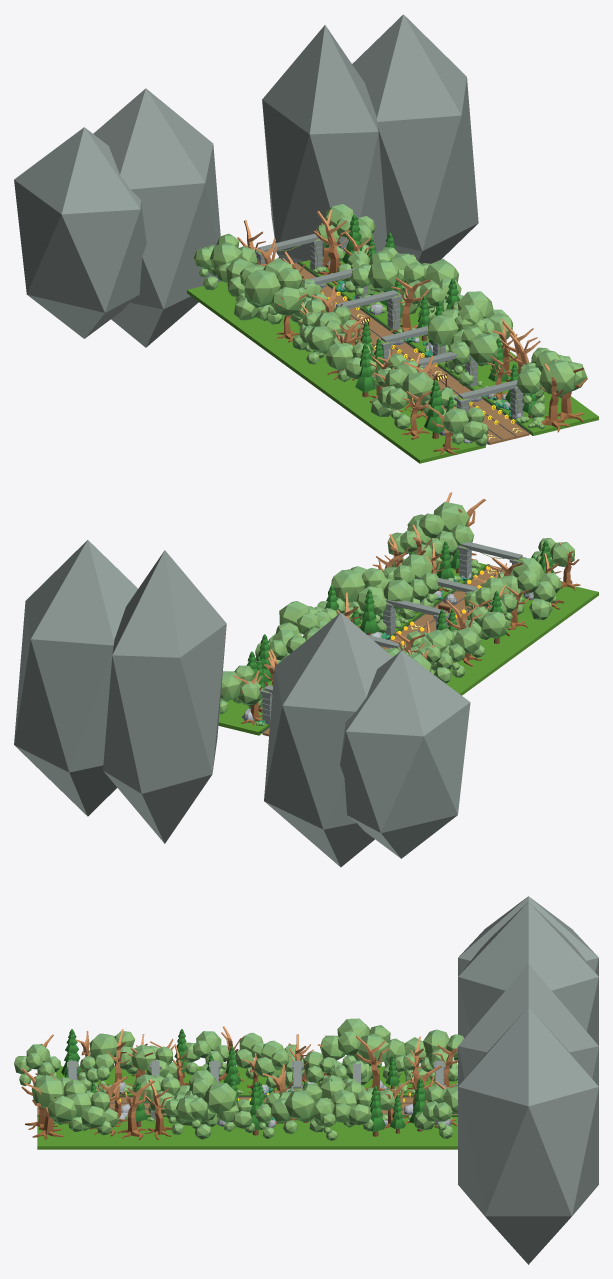
File: ruins_72m.glb
The picture shows the model from 3 angles, top to bottom: view 1: azimuth 30°, elevation 25°; view 2: azimuth 150°, elevation 25°; view 3: azimuth 270°, elevation 25°; orthographic projection. The views are drawn at different scales.
Parts seen in each view (by area): view 1: Distant_mountain.015, Distant_mountain.012, Distant_mountain.014, Distant_mountain.013, Terrain_bank.024, Asset_Base Tree.063, Terrain_bank.026, Asset_Base Tree.091, Terrain_bank.028, Asset_Base Tree.056, Asset_Base Tree.061, Asset_Base Tree.095 (+20 smaller); view 2: Distant_mountain.014, Distant_mountain.015, Distant_mountain.012, Distant_mountain.013, Terrain_bank.024, Asset_Base Tree.056, Asset_Base Tree.063, Terrain_bank.026, Asset_Base Tree.061, Asset_Base Tree.081, Asset_Base Tree.103, Asset_Base Tree.084 (+12 smaller); view 3: Distant_mountain.015, Distant_mountain.013, Distant_mountain.014, Terrain_bank.029, Terrain_bank.025, Terrain_bank.027, Asset_Base Tree.063, Distant_mountain.012, Asset_Base Tree.081, Asset_Base Tree.084, Asset_Base Tree.103, Asset_Base Tree.091 (+25 smaller).
Boxes of the visible parts, x1,y1,x2,y2 form: Distant_mountain.015: [352, 14, 478, 263]; Distant_mountain.012: [14, 127, 146, 338]; Distant_mountain.014: [262, 25, 387, 263]; Distant_mountain.013: [93, 88, 221, 347]; Terrain_bank.024: [342, 395, 485, 463]; Asset_Base Tree.063: [516, 350, 587, 418]; Terrain_bank.026: [264, 341, 376, 406]; Asset_Base Tree.091: [244, 267, 302, 322]; Terrain_bank.028: [187, 281, 300, 349]; Asset_Base Tree.056: [371, 368, 433, 429]; Asset_Base Tree.061: [446, 326, 504, 385]; Asset_Base Tree.095: [193, 233, 257, 290]; Distant_mountain.014: [103, 550, 226, 843]; Distant_mountain.015: [14, 540, 137, 816]; Distant_mountain.012: [340, 650, 470, 858]; Distant_mountain.013: [264, 612, 392, 867]; Terrain_bank.024: [488, 586, 598, 650]; Asset_Base Tree.056: [502, 558, 562, 620]; Asset_Base Tree.063: [407, 501, 474, 572]; Terrain_bank.026: [433, 637, 522, 695]; Asset_Base Tree.061: [383, 554, 439, 613]; Asset_Base Tree.081: [331, 568, 385, 619]; Asset_Base Tree.103: [219, 665, 262, 714]; Asset_Base Tree.084: [275, 601, 330, 634]; Distant_mountain.015: [458, 1007, 598, 1264]; Distant_mountain.013: [458, 902, 598, 1045]; Distant_mountain.014: [458, 964, 598, 1086]; Terrain_bank.029: [321, 1117, 457, 1149]; Terrain_bank.025: [37, 1117, 179, 1149]; Terrain_bank.027: [179, 1118, 321, 1149]; Asset_Base Tree.063: [31, 1075, 87, 1131]; Distant_mountain.012: [458, 896, 598, 976]; Asset_Base Tree.081: [175, 1078, 236, 1139]; Asset_Base Tree.084: [279, 1083, 334, 1134]; Asset_Base Tree.103: [414, 1085, 457, 1138]; Asset_Base Tree.091: [320, 1018, 381, 1084].
Size of the model in its own units: 78.62 by 51.1 by 98.84.
Materials: 13 (2 with a texture image).
